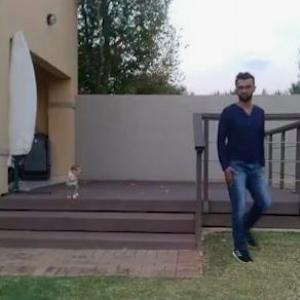follow: (202, 65, 266, 275)
